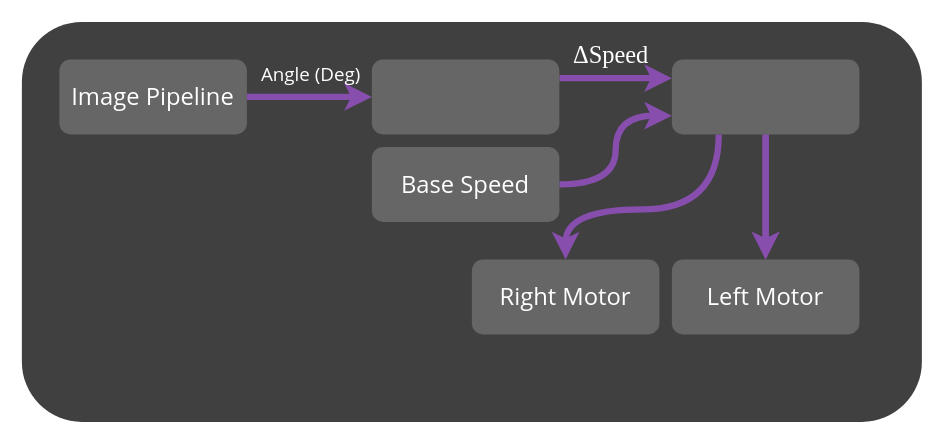
The diagram is 943 pixels wide and 443 high, and some of its shapes have lost their labels. Each missing label, with the centre of its shape:
L=Base+ ΔSpeed R=Base- ΔSpeed: point 765,96
Linear Map: point 465,96
